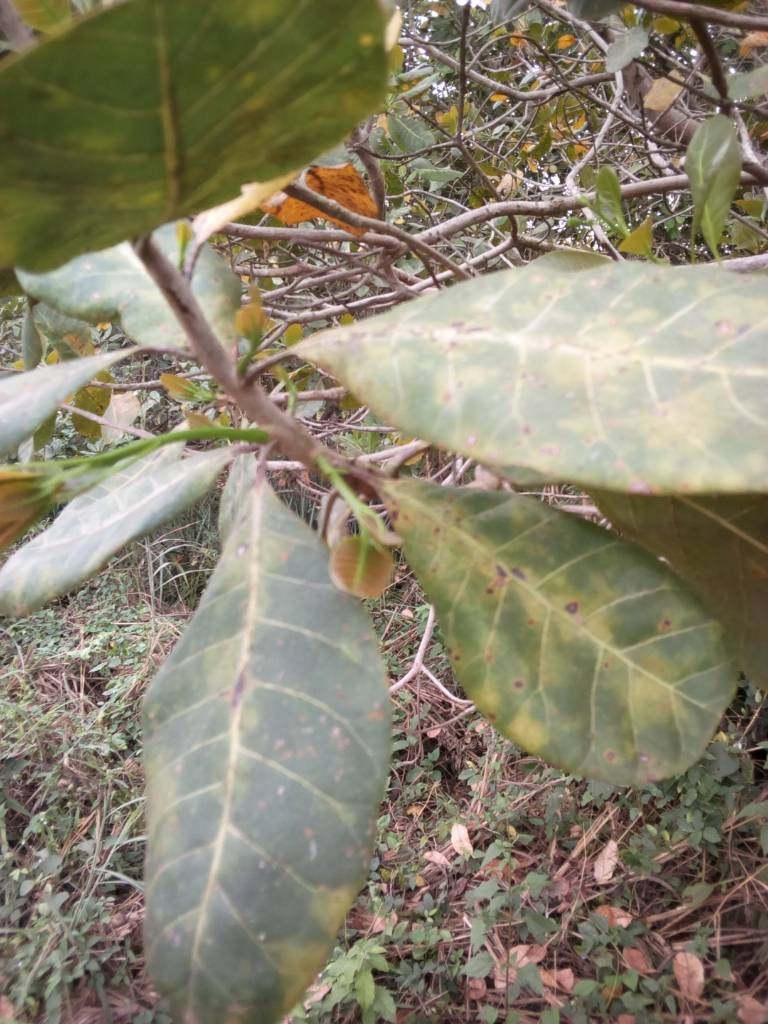Anthracnose: (372, 464, 735, 786), (293, 261, 763, 492)
